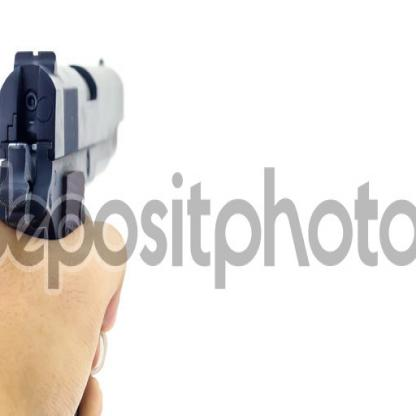gun: (0, 39, 125, 415)
